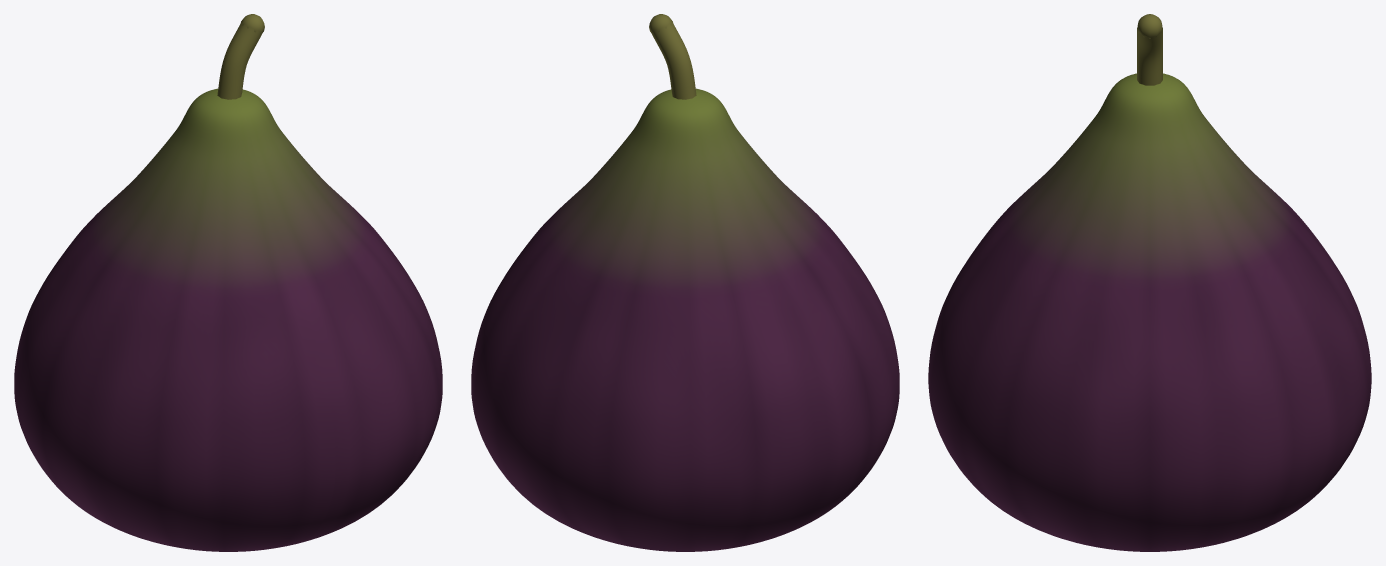
The model's file is fig.glb.
The picture shows the model from 3 angles, left to right: view 1: azimuth 30°, elevation 25°; view 2: azimuth 150°, elevation 25°; view 3: azimuth 270°, elevation 25°; orthographic projection. The views are drawn at different scales.
Visible parts, largest first — view 1: Fig; view 2: Fig; view 3: Fig.
Part boxes in pixels (x1,y1,x2,y2): Fig: [14, 14, 442, 551]; Fig: [471, 14, 899, 551]; Fig: [928, 14, 1371, 551].
Bounding box in the file's own units: 0.1543 × 0.1947 × 0.1543.
